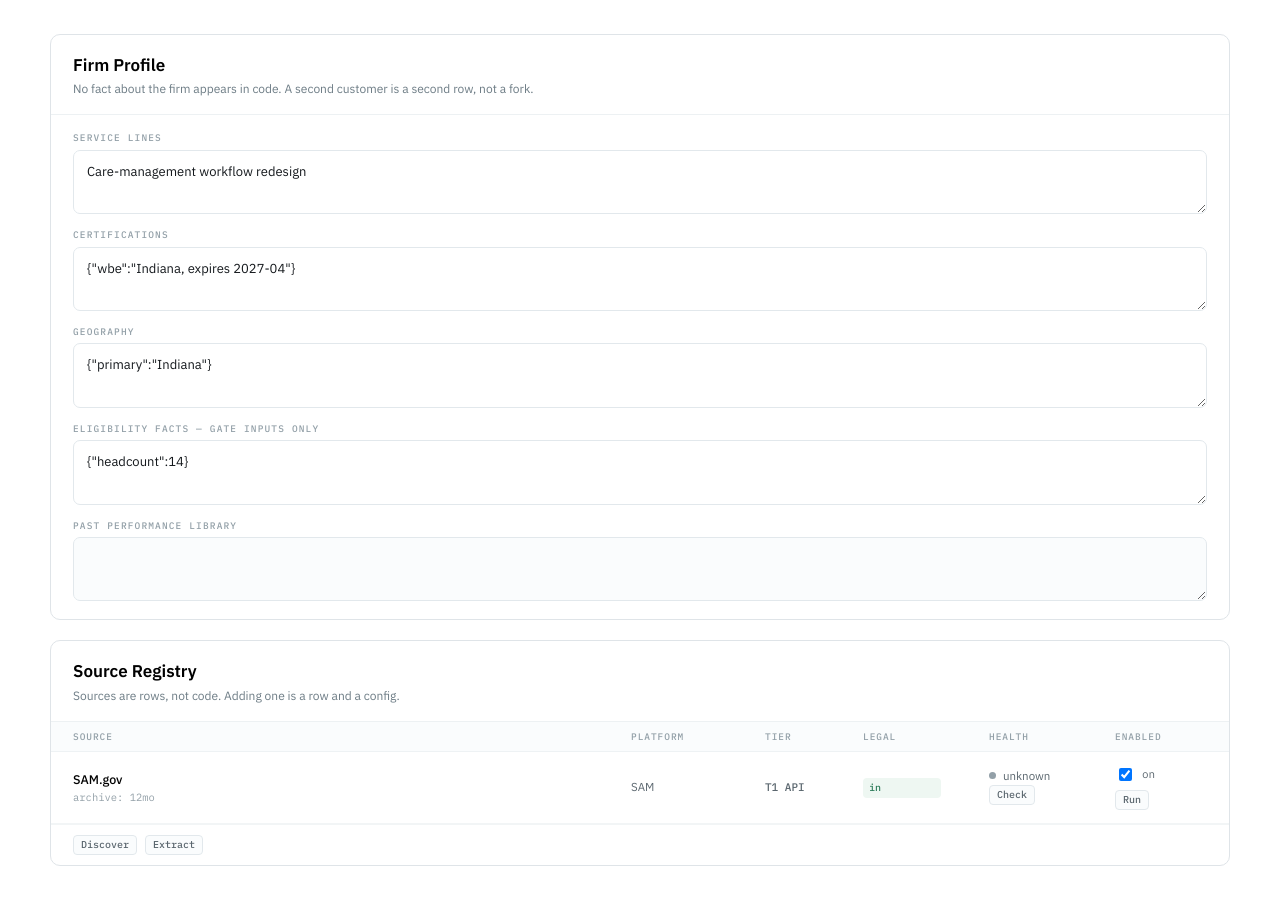
a Check the server declined to run reports the server's reason on the row
Click the button with aria-label "check sam.gov" at coordinates (1012, 795), box [989,785,1035,805]
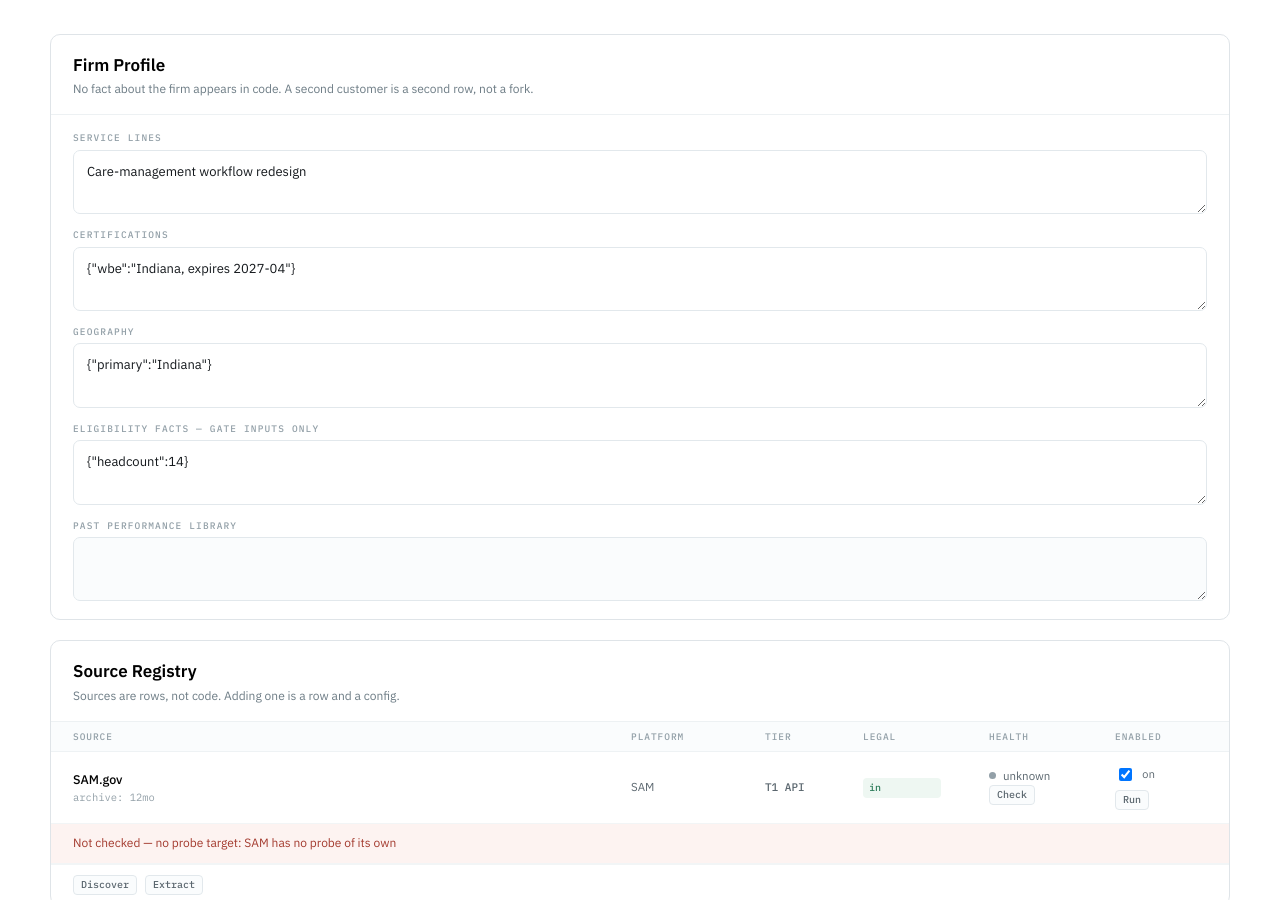
Expected: the text "Not checked — no probe target: SAM has no probe of its own" is shown, [51,824,1229,864]
